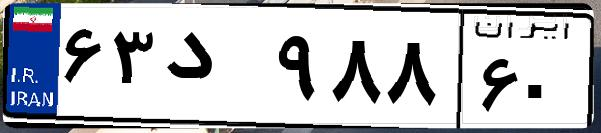0: (525, 38, 570, 115)
3: (110, 28, 158, 98)
6: (57, 26, 110, 100), (475, 38, 525, 113)
8: (385, 28, 445, 110), (330, 28, 385, 110)
9: (270, 28, 330, 110)
د: (158, 20, 270, 120)
